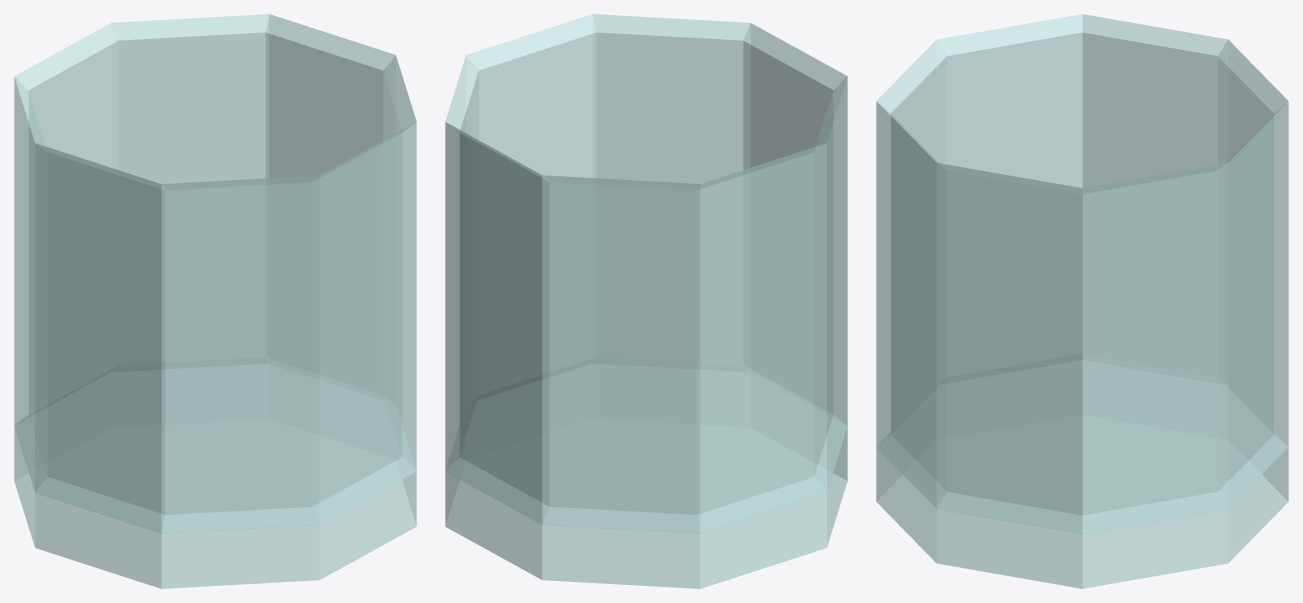
The model's file is glass.glb.
3 renders of one model, left to right at view 1: azimuth 30°, elevation 25°; view 2: azimuth 150°, elevation 25°; view 3: azimuth 270°, elevation 25°, orthographic.
Visible parts, largest first — view 1: Glass; view 2: Glass; view 3: Glass.
Part boxes in pixels (x1,y1,x2,y2): Glass: [14, 14, 416, 588]; Glass: [445, 14, 847, 588]; Glass: [876, 14, 1288, 588].
Bounding box in the file's own units: 0.14 × 0.1501 × 0.14.
